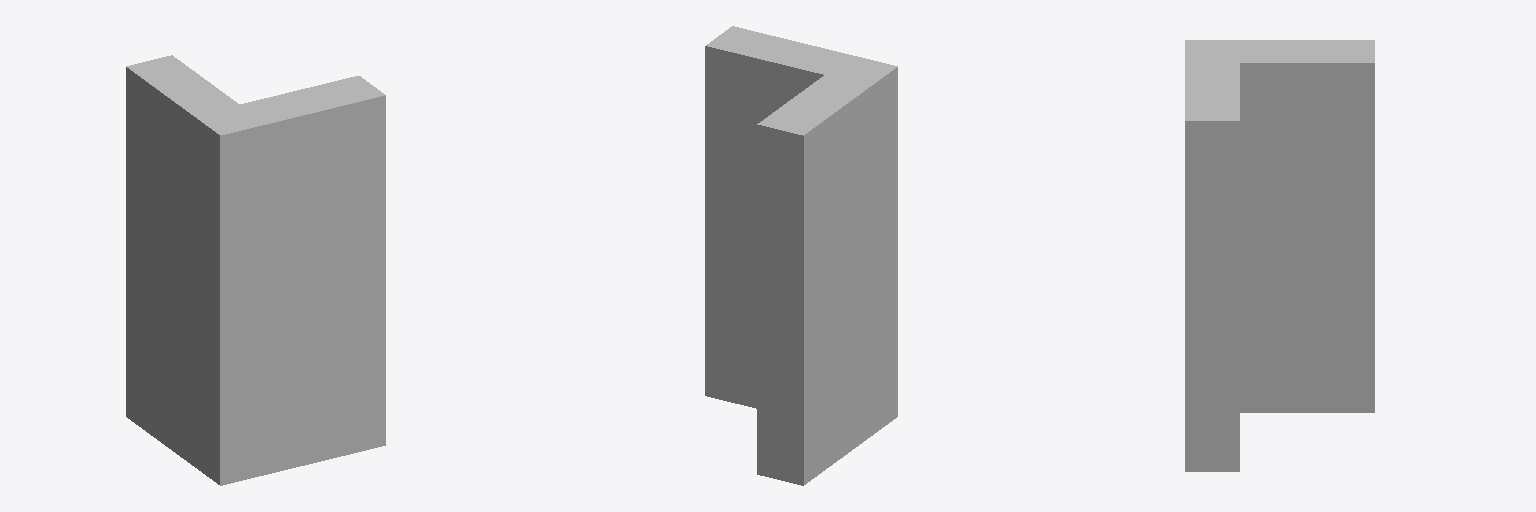
File: wallCon180sOB.obj
3 renders of one model, left to right at view 1: azimuth 30°, elevation 25°; view 2: azimuth 150°, elevation 25°; view 3: azimuth 270°, elevation 25°, orthographic.
Parts seen in each view (by area): view 1: WallConnect.180s_Cube.006; view 2: WallConnect.180s_Cube.006; view 3: WallConnect.180s_Cube.006.
Part boxes in pixels (left/top/right/bottom): WallConnect.180s_Cube.006: left=126, top=55, right=385, bottom=485; WallConnect.180s_Cube.006: left=705, top=26, right=897, bottom=485; WallConnect.180s_Cube.006: left=1185, top=40, right=1374, bottom=471.
Bounding box in the file's own units: 1.98 × 4.01 × 1.96.